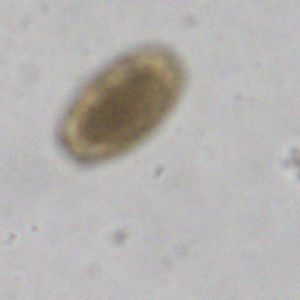Fasciola_hepatica_egg: (55, 40, 189, 166)
